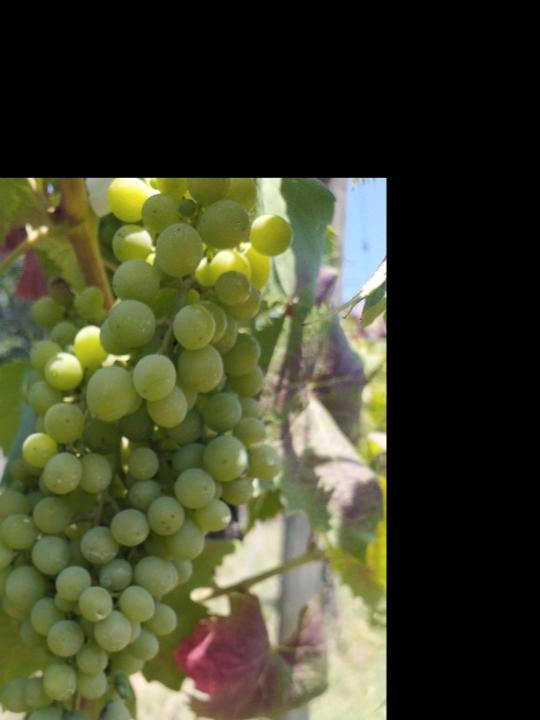grape: (0, 181, 292, 720)
